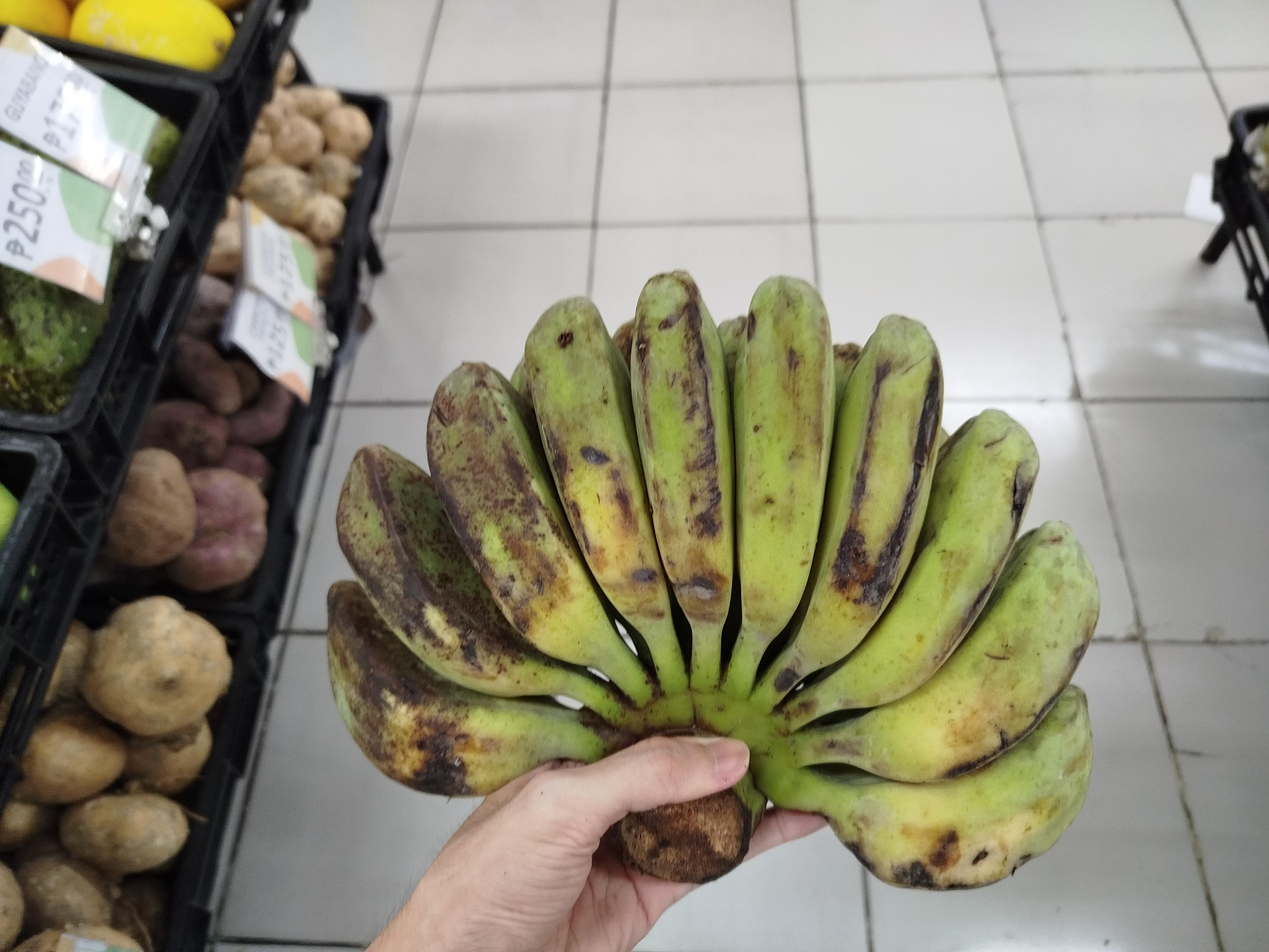underripe: (327, 271, 1099, 889)
